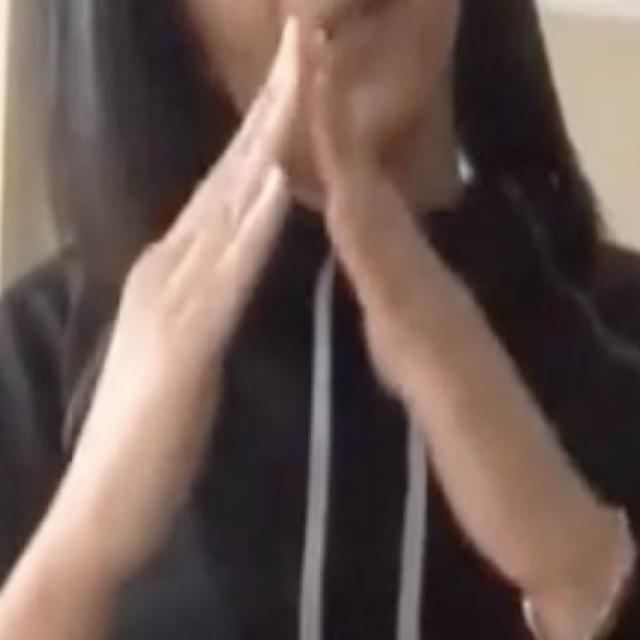casa: (46, 11, 620, 589)
